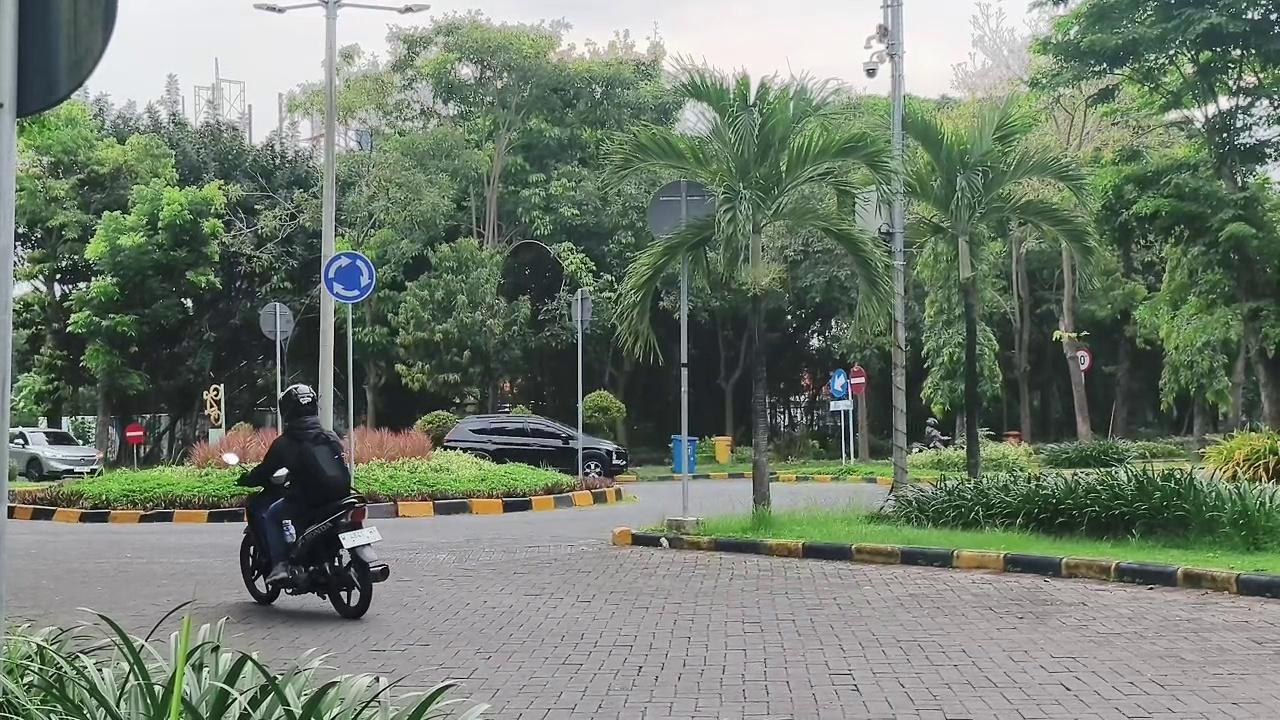Helmet: (239, 384, 350, 583)
Motor: (239, 470, 389, 618)
